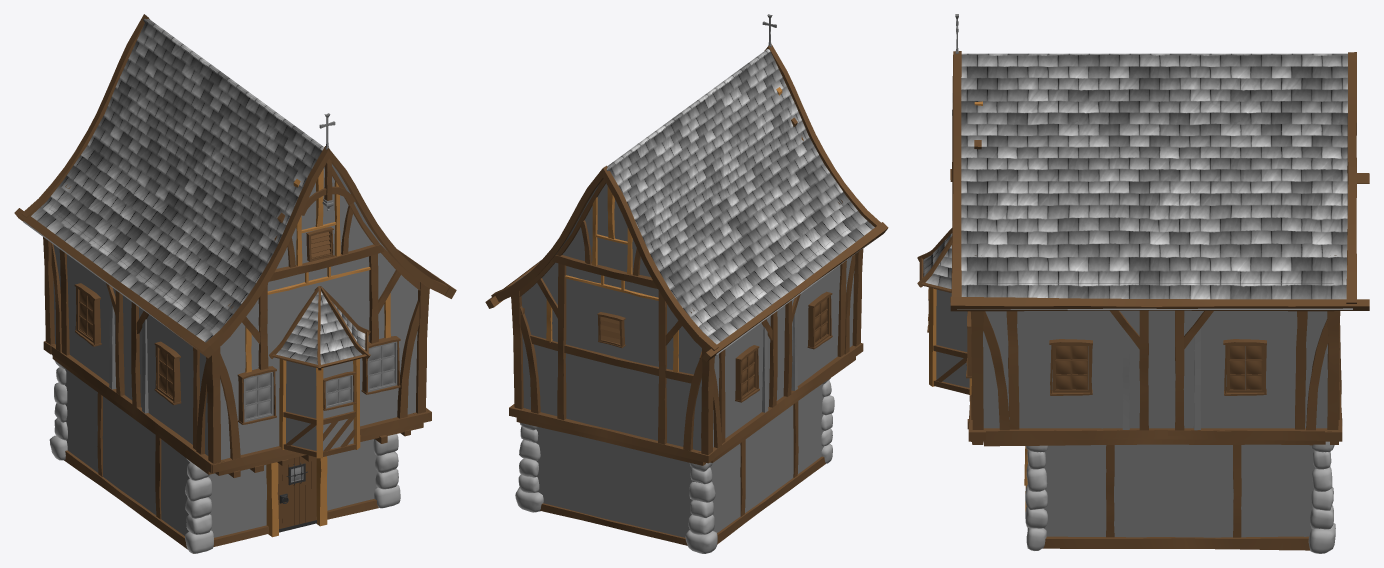
File: SM_house_03.fbx
The picture shows the model from 3 angles, left to right: view 1: azimuth 30°, elevation 25°; view 2: azimuth 150°, elevation 25°; view 3: azimuth 270°, elevation 25°; orthographic projection. The views are drawn at different scales.
Visible parts, largest first — view 1: Object32586; view 2: Object32586; view 3: Object32586.
Boxes of the visible parts, x1,y1,x2,y2 form: Object32586: (14,14,456,553); Object32586: (485,14,888,553); Object32586: (917,14,1369,553).
Bounding box in the file's own units: 295 × 492 × 418.
9 materials, 1 textured.
